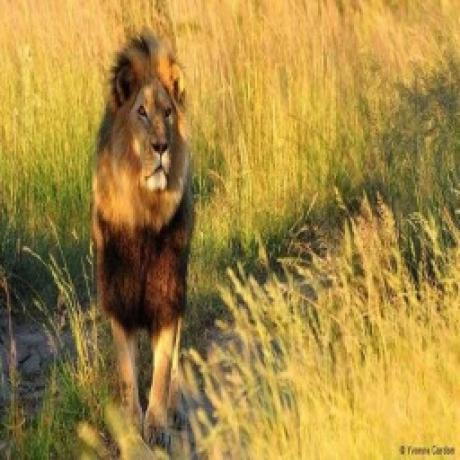Lion: (91, 33, 195, 426)
